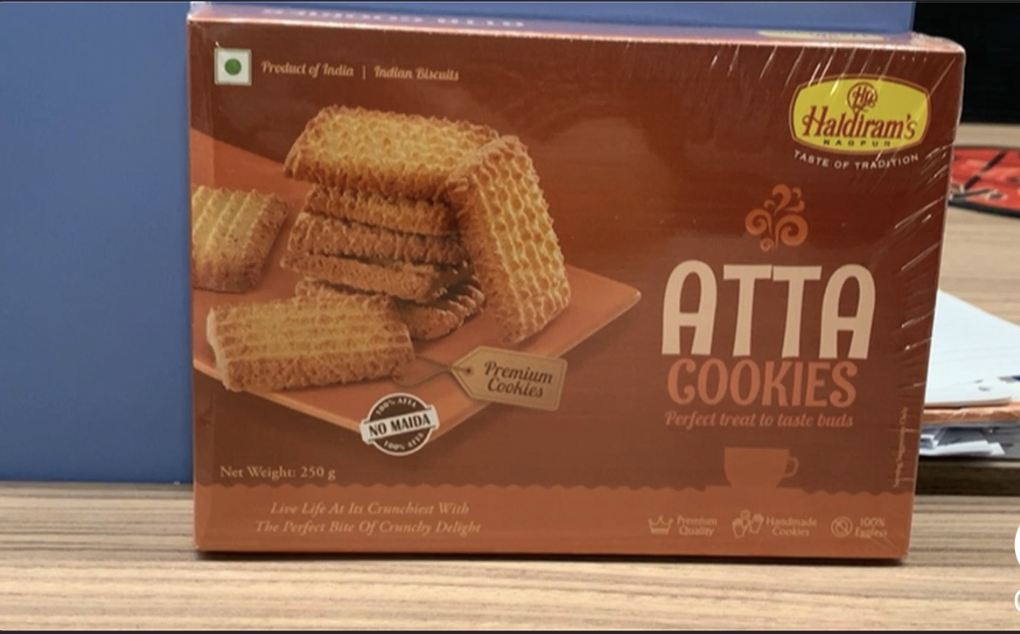cookies_200g-299g: (225, 63, 895, 539)
